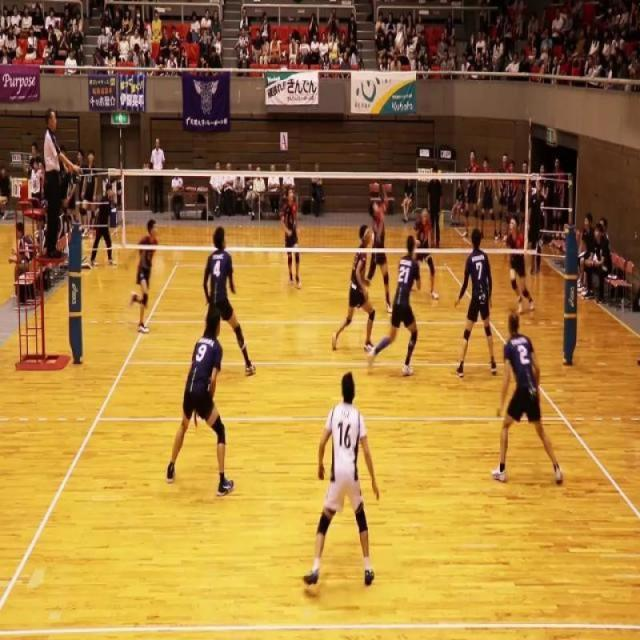volleyball: (394, 31, 405, 48)
